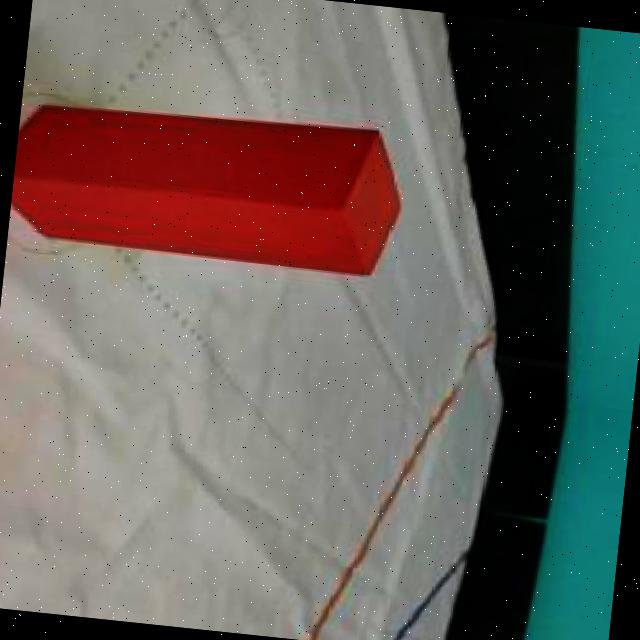redbox: (7, 90, 411, 278)
